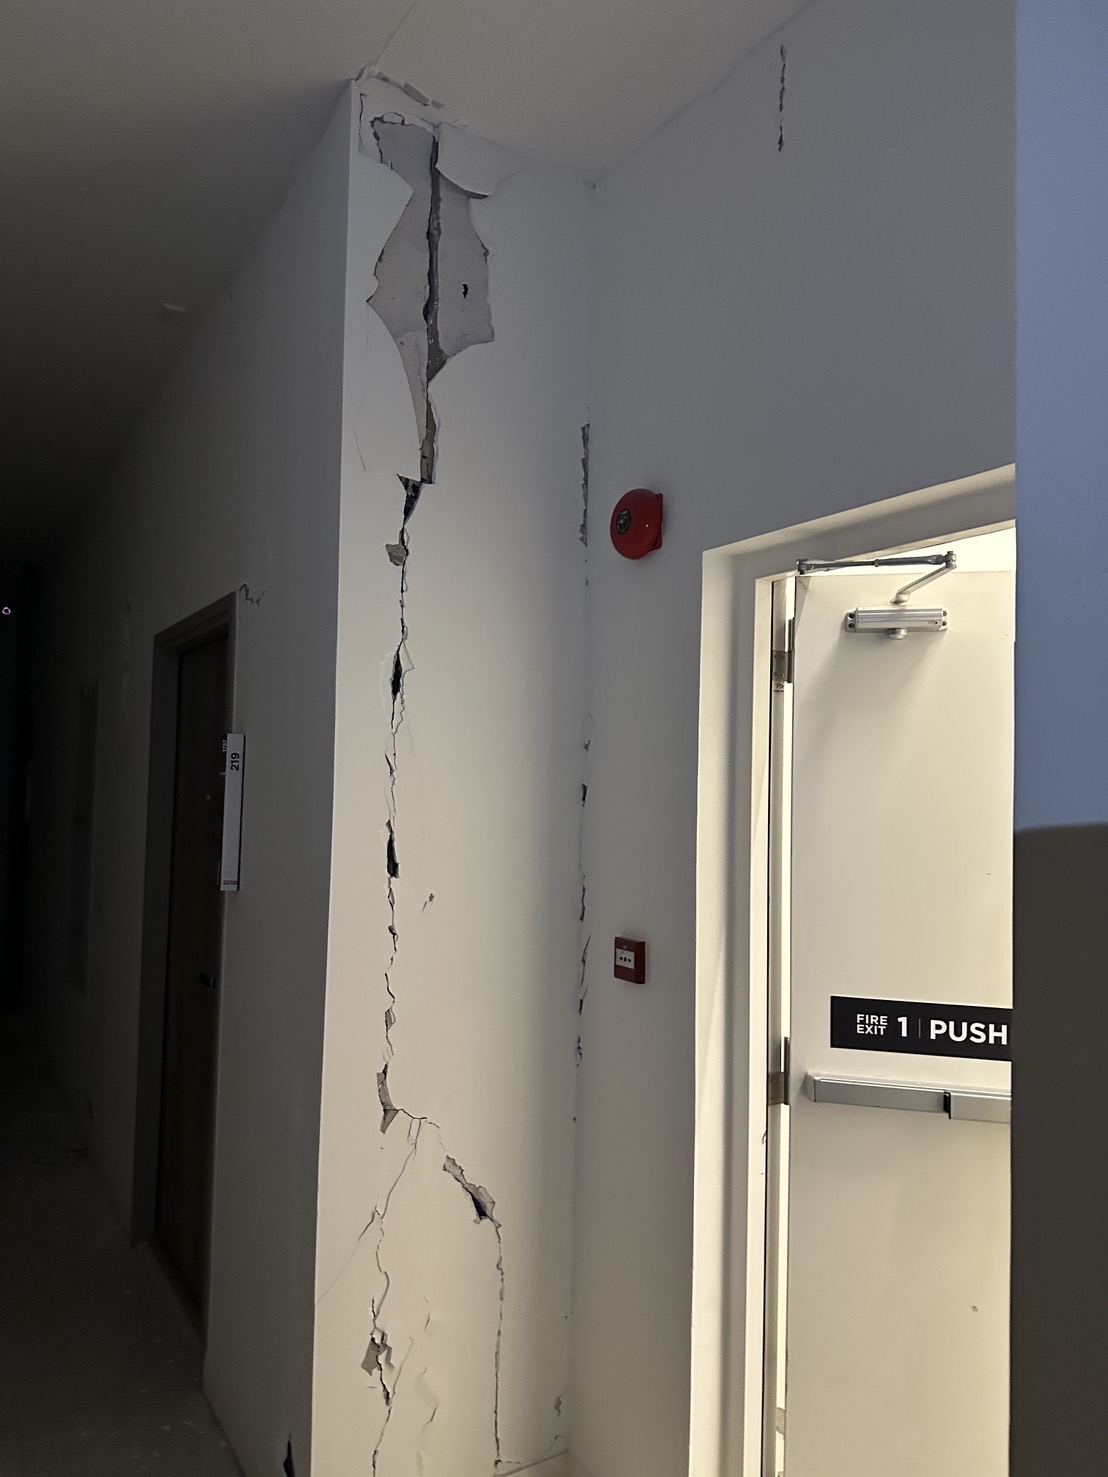High: (276, 64, 601, 1477)
